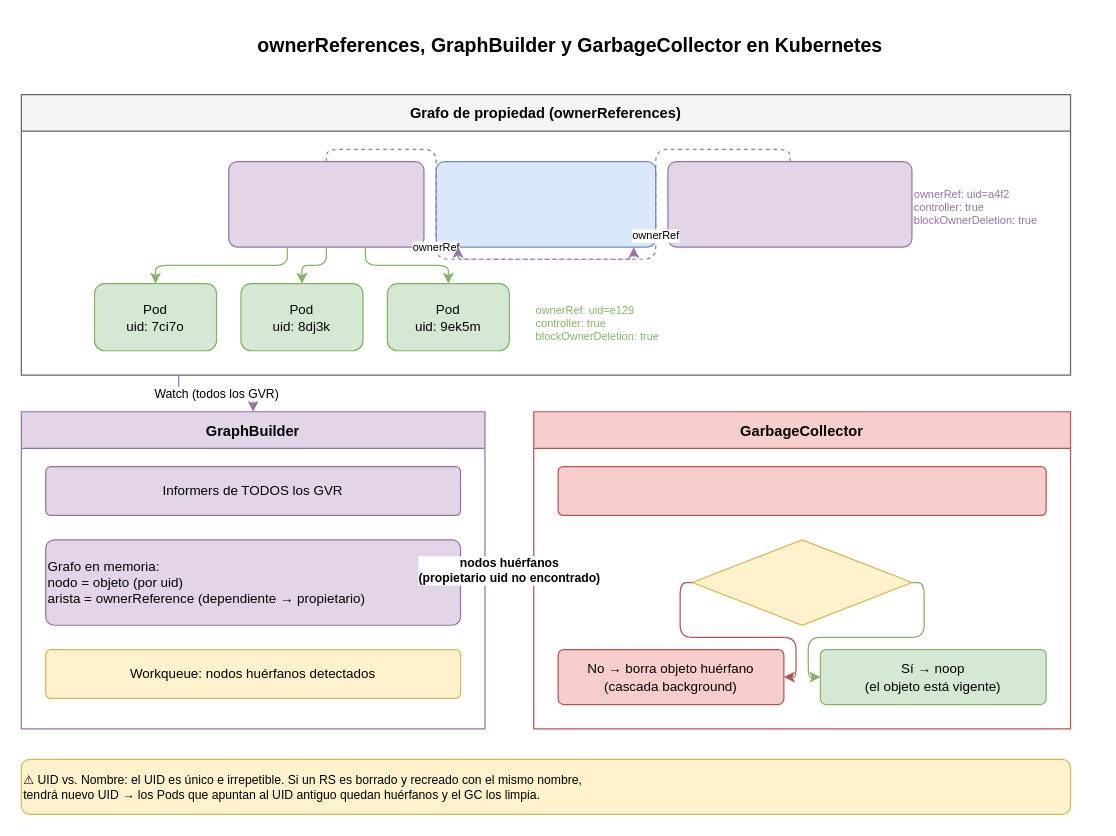
Some shapes in this 1116 by 836 pixel diagram are drawn without their labels. Each missing label, with the centre of its shape:
"Deployment nginx-deployment uid: a4f2..." goes at pixel 545 203.
"Recibe nodos huérfanos del GraphBuilder" goes at pixel 801 490.
"ReplicaSet nginx-deployment-75675f uid: e129..." goes at pixel 326 203.
"ReplicaSet nginx-deployment-abc123 uid: b7d1... (replicas=0)" goes at pixel 789 203.
"¿propietario existe?" goes at pixel 801 582.
